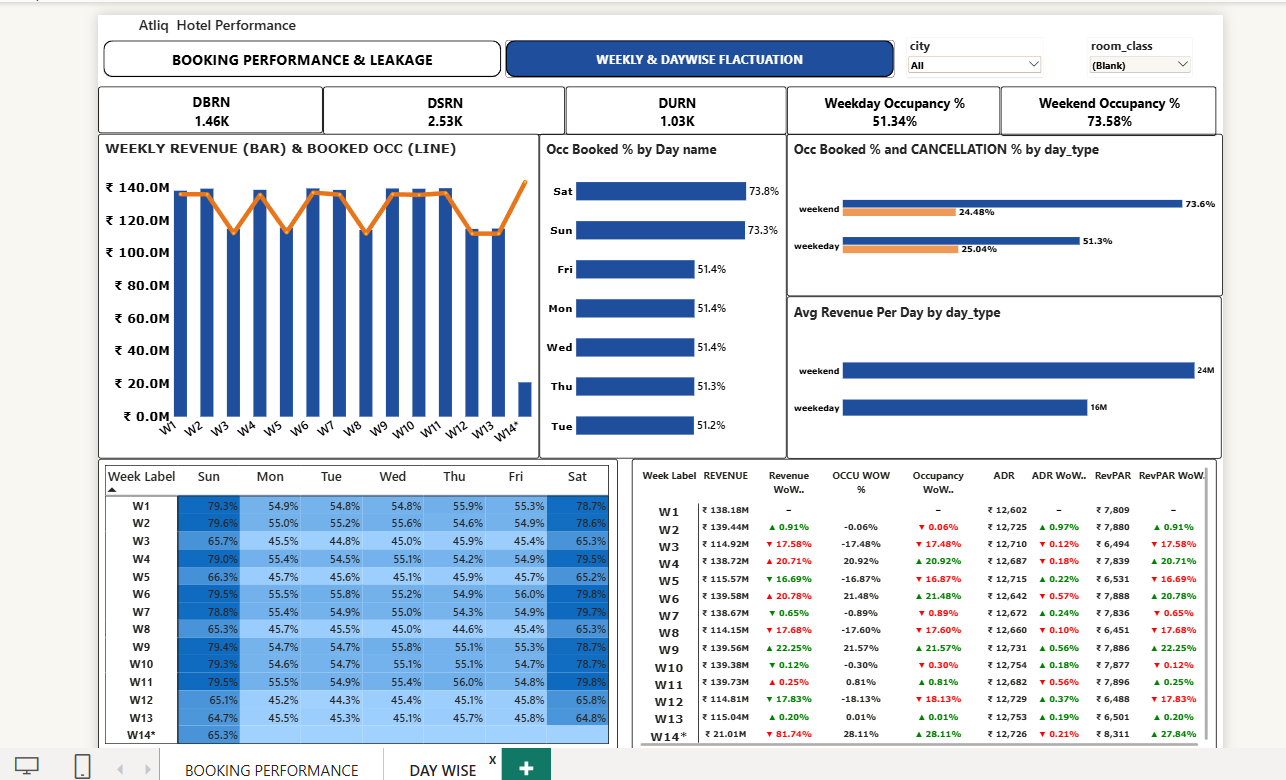

The dashboard page shown, as its layout file describes it:
{"tool":"powerbi","page":{"name":"DAY WISE ","canvas":[3000,2000],"ordinal":1},"visuals":[{"type":"cardVisual","fields":{"Data":["fact_bookings.DBRN"]},"box":[0,190,600,126.7],"z":0},{"type":"cardVisual","fields":{"Data":["fact_bookings.DSRN"]},"box":[600,190,646.7,130],"z":1000},{"type":"cardVisual","fields":{"Data":["fact_bookings.DURN"]},"box":[1246.7,190,590,130],"z":2000},{"type":"cardVisual","fields":{"Data":["fact_bookings.Weekday Occupancy %"]},"box":[1836.7,190,570,130],"z":3000},{"type":"cardVisual","fields":{"Data":["fact_bookings.Weekend Occupancy %"]},"box":[2406.7,190,576.7,133.3],"z":4000},{"type":"clusteredBarChart","fields":{"Category":["dim_date.day_type"],"Y":["fact_bookings.Occ Booked %","fact_bookings.CANCELLATION %"]},"box":[1836.7,316.7,1163.3,433.3],"z":5000},{"type":"clusteredBarChart","fields":{"Category":["dim_date.day_type"],"Y":["fact_bookings.Avg Revenue Per Day"]},"box":[1836.7,750,1160,433.3],"z":6000},{"type":"clusteredBarChart","fields":{"Category":["dim_date.Day name"],"Y":["fact_bookings.Occ Booked %"]},"box":[1176.7,316.7,660,866.7],"z":7000},{"type":"lineStackedColumnComboChart","title":"WEEKLY REVENUE (BAR) & BOOKED OCC (LINE)","fields":{"Category":["dim_date.Week Label"],"Y":["fact_bookings.REVENUE"],"Y2":["fact_bookings.Occ Booked %"]},"box":[0,316.7,1176.7,866.7],"z":8000},{"type":"pivotTable","fields":{"Columns":["dim_date.Day name"],"Rows":["dim_date.Week Label"],"Values":["fact_bookings.Occ Booked %"]},"box":[0,1183.3,1386.7,800],"z":9000},{"type":"pivotTable","fields":{"Rows":["dim_date.Week Label"],"Values":["fact_bookings.REVENUE","fact_bookings.Revenue WoW Display","fact_bookings.OCCU WOW %","fact_bookings.Occupancy WoW Display","fact_bookings.ADR","fact_bookings.ADR WoW Display","fact_bookings.RevPAR","fact_bookings.RevPAR WoW Display"]},"box":[1423.3,1183.3,1560,790],"z":10000},{"type":"shape","box":[13.3,66.7,1063.3,100],"z":11000},{"type":"shape","box":[1086.7,66.7,1036.7,100],"z":12000},{"type":"textbox","box":[23.3,0,590,66.7],"z":13000},{"type":"slicer","fields":{"Values":["dim_hotels.city"]},"box":[2156.7,60,363.3,106.7],"z":14000},{"type":"slicer","fields":{"Values":["dim_rooms.room_class"]},"box":[2640,60,277.5,105],"z":15000}]}

Visuals, with their boxes on the page's 3000x2000 design canvas (x1, y1, x2, y2). These are canvas units, not pixel positions in the 1286x780 screenshot, which may show the page scaled, cropped or inside an application window:
cardVisual - fact_bookings.DBRN: Rect(0, 190, 600, 317)
cardVisual - fact_bookings.DSRN: Rect(600, 190, 1247, 320)
cardVisual - fact_bookings.DURN: Rect(1247, 190, 1837, 320)
cardVisual - fact_bookings.Weekday Occupancy %: Rect(1837, 190, 2407, 320)
cardVisual - fact_bookings.Weekend Occupancy %: Rect(2407, 190, 2983, 323)
clusteredBarChart - dim_date.day_type x fact_bookings.Occ Booked %: Rect(1837, 317, 3000, 750)
clusteredBarChart - dim_date.day_type x fact_bookings.Avg Revenue Per Day: Rect(1837, 750, 2997, 1183)
clusteredBarChart - dim_date.Day name x fact_bookings.Occ Booked %: Rect(1177, 317, 1837, 1183)
"WEEKLY REVENUE (BAR) & BOOKED OCC (LINE)" lineStackedColumnComboChart: Rect(0, 317, 1177, 1183)
pivotTable - dim_date.Day name x dim_date.Week Label: Rect(0, 1183, 1387, 1983)
pivotTable - dim_date.Week Label x fact_bookings.REVENUE: Rect(1423, 1183, 2983, 1973)
shape: Rect(13, 67, 1077, 167)
shape: Rect(1087, 67, 2123, 167)
textbox: Rect(23, 0, 613, 67)
slicer - dim_hotels.city: Rect(2157, 60, 2520, 167)
slicer - dim_rooms.room_class: Rect(2640, 60, 2918, 165)
